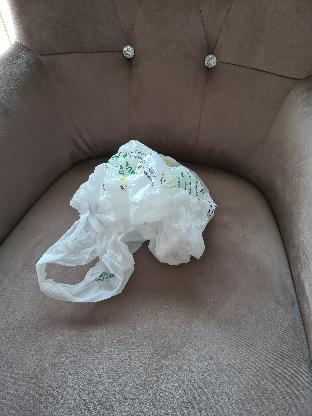Plastic Bag: (38, 138, 214, 302)
